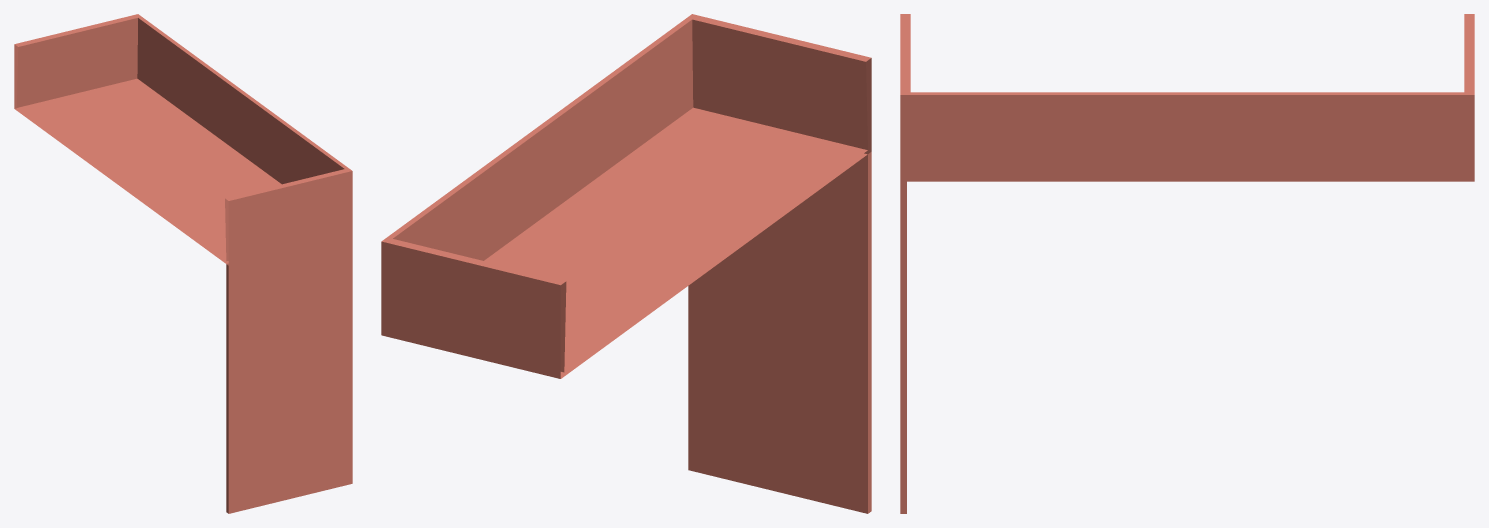
Rendered from Balcon.fbx.
3 renders of one model, left to right at view 1: azimuth 30°, elevation 25°; view 2: azimuth 150°, elevation 25°; view 3: azimuth 270°, elevation 25°, orthographic. The views are drawn at different scales.
Parts seen in each view (by area): view 1: Balcon; view 2: Balcon; view 3: Balcon.
Part boxes in pixels (box(x1,y1,x2,y2)): Balcon: box(14, 14, 352, 513); Balcon: box(381, 14, 871, 513); Balcon: box(900, 14, 1474, 513).
Size of the model in its own units: 100 by 242 by 300.
